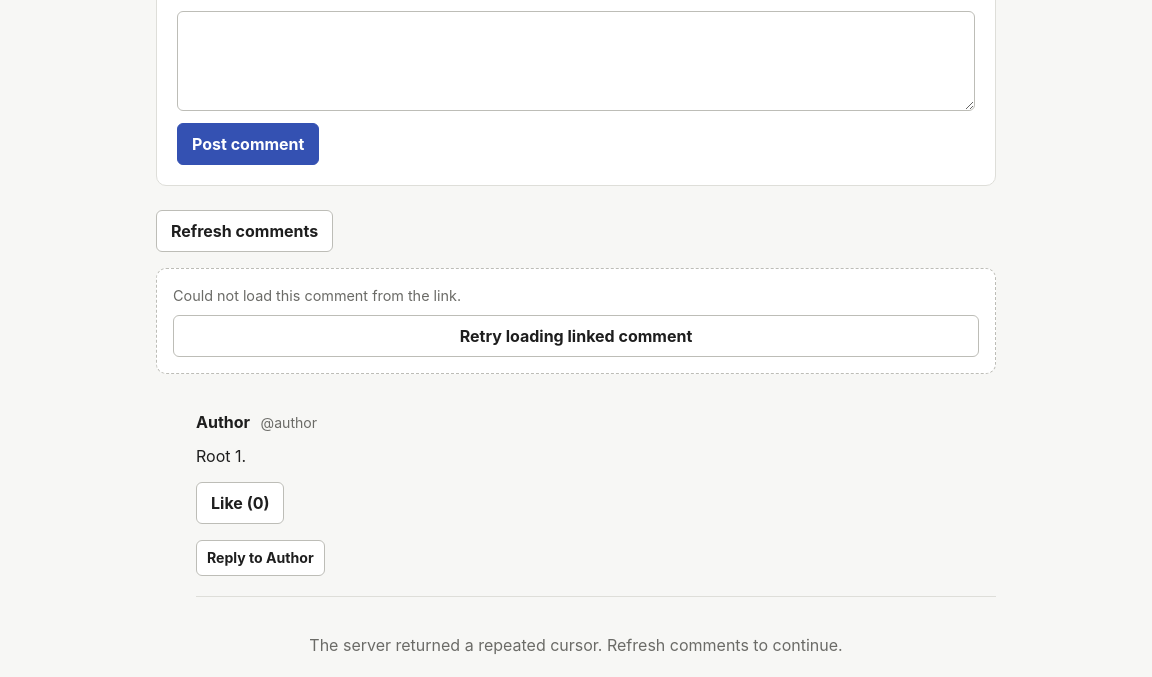
it: offers a separate retry after a network error loading a linked comment
(page scrolled)
Expected: the text "Could not load this comment from the link." is shown, x1=173 y1=287 x2=461 y2=304
Expected: the text "Root 1." is shown, x1=196 y1=446 x2=246 y2=466
Step 1. Click the button "Retry loading linked comment" → coordinates (576, 336), box x1=173 y1=314 x2=979 y2=356
(page scrolled)
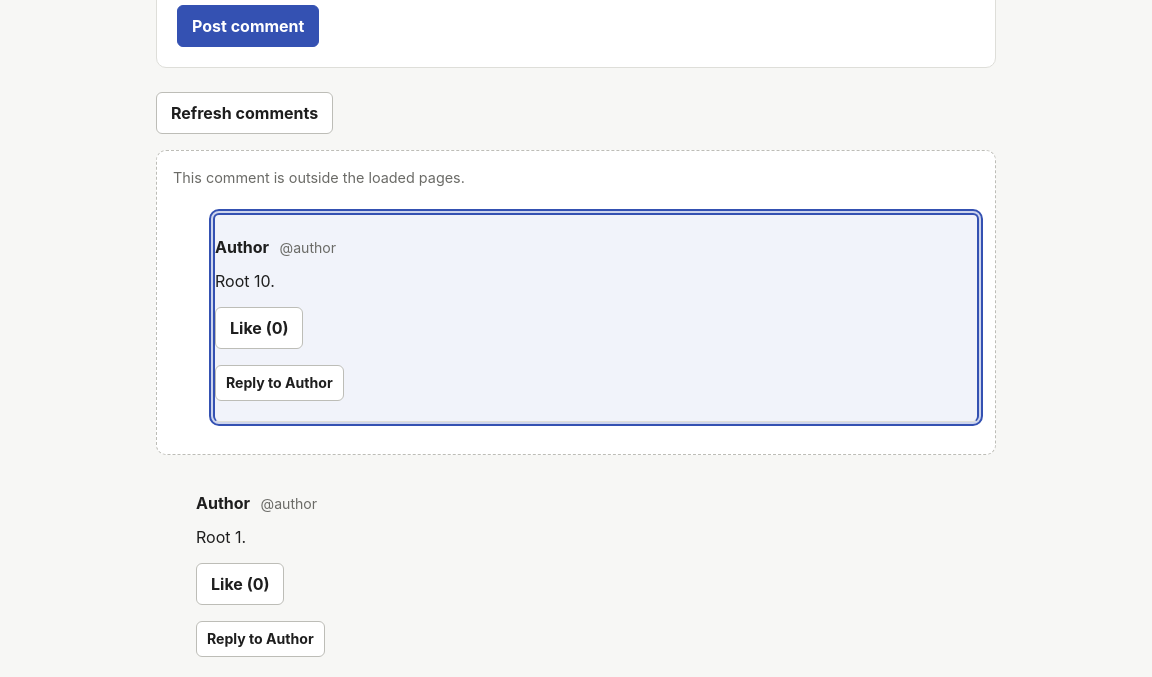
Now the text "Root 10." is shown, box x1=215 y1=270 x2=275 y2=290
